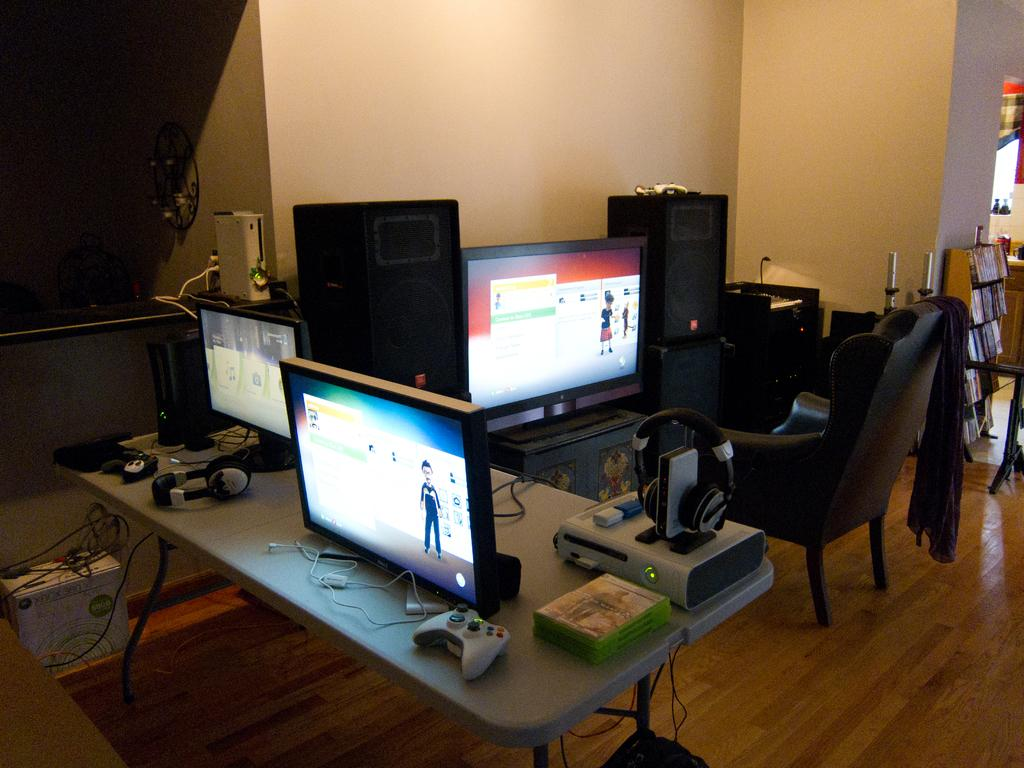Chair: (701, 304, 956, 625)
Computer-monitor: (275, 365, 511, 622), (456, 244, 654, 437), (296, 193, 472, 381), (196, 295, 316, 463)
